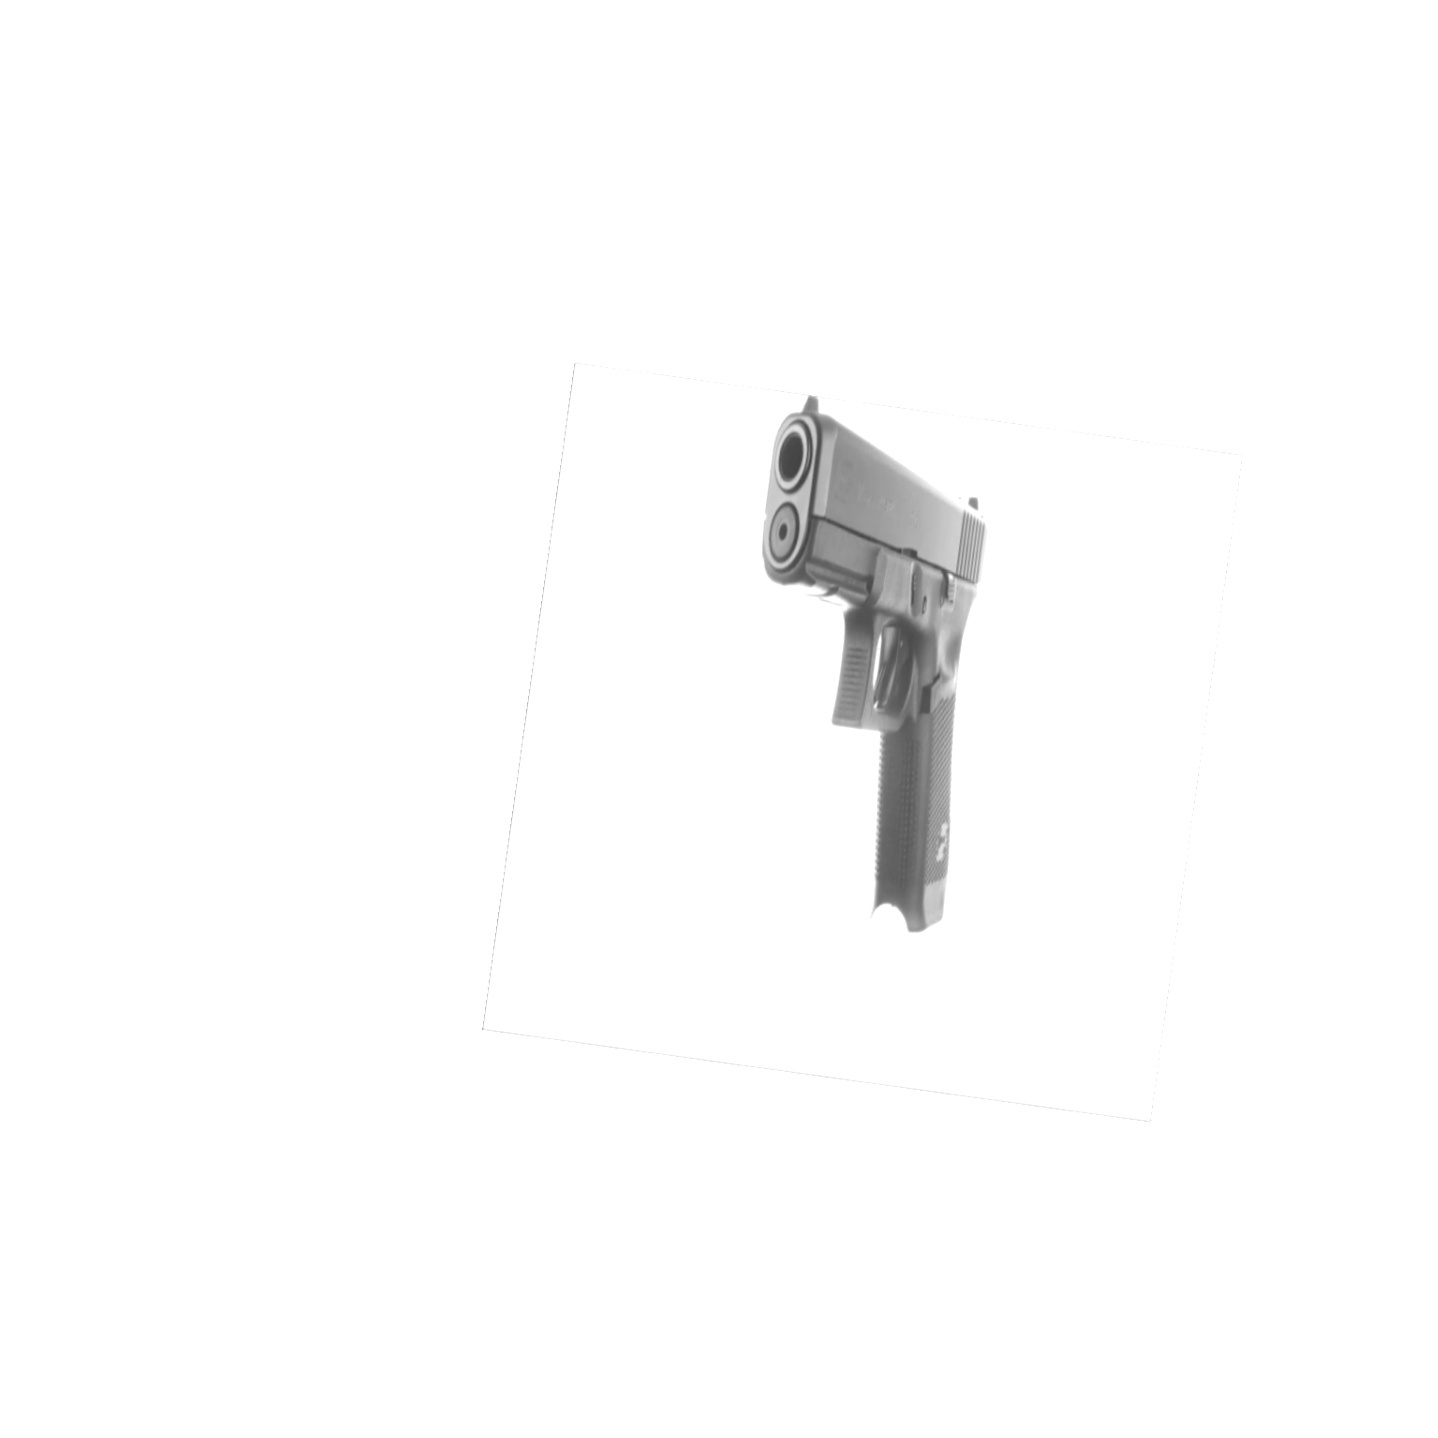gun: (759, 399, 988, 934)
